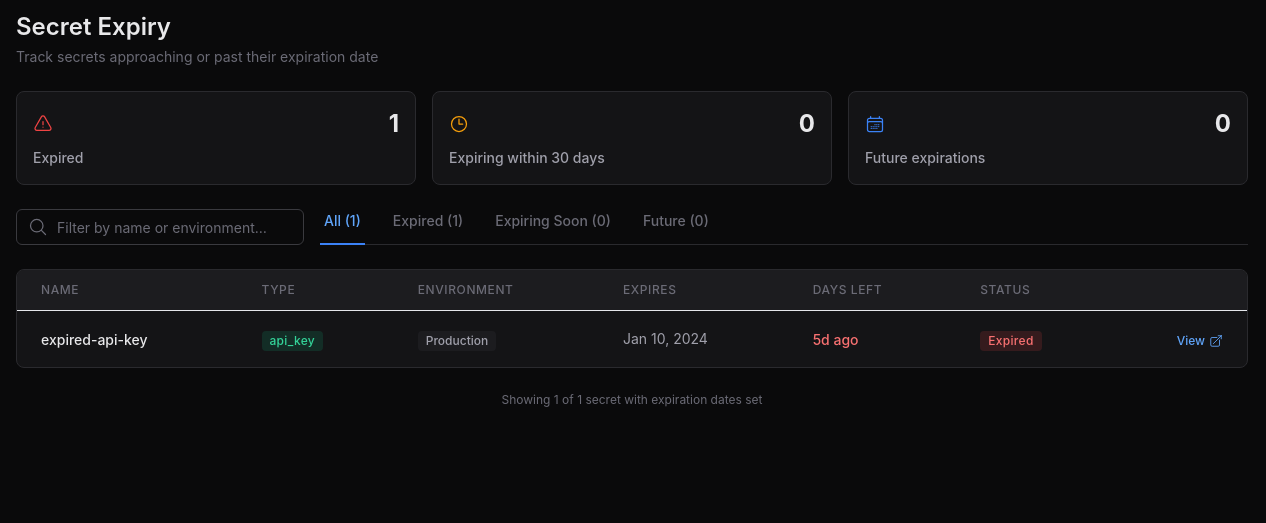
SecretExpiryPage › shows the tab-specific empty state when a bucket has no matches
Expected: the text "expired-api-key" is shown, [41, 331, 148, 348]
Click the button "Future (0)": (676, 228) [639, 211, 713, 245]
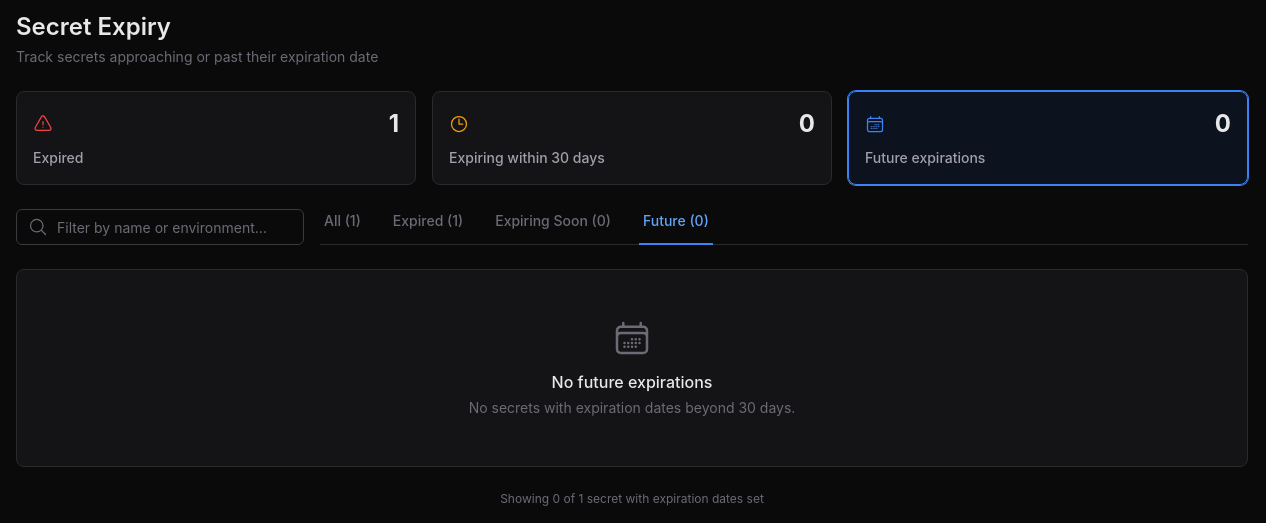
Result: the heading "No future expirations" is shown at [552, 372, 712, 392]
Result: the text "No secrets with expiration dates beyond 30 days." is shown at [469, 399, 795, 416]
